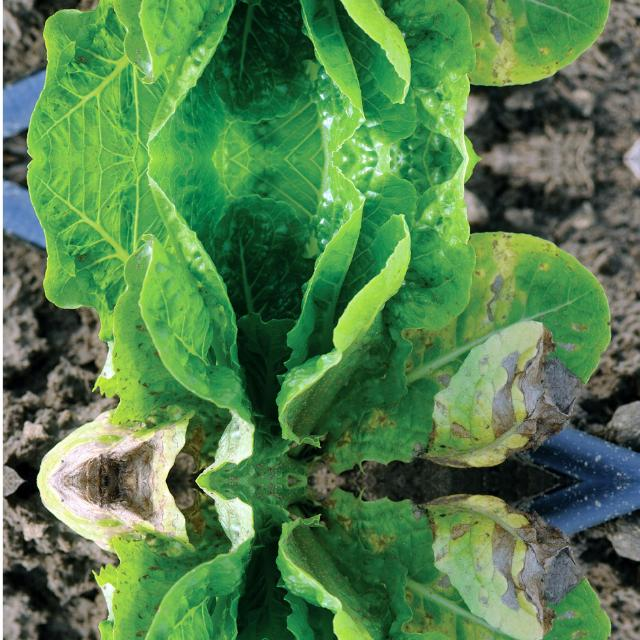Downy_mildew: (0, 158, 308, 392), (408, 226, 632, 449), (0, 0, 308, 158), (408, 511, 632, 640), (0, 570, 308, 640), (408, 0, 632, 89), (25, 481, 319, 544), (25, 418, 319, 480)
